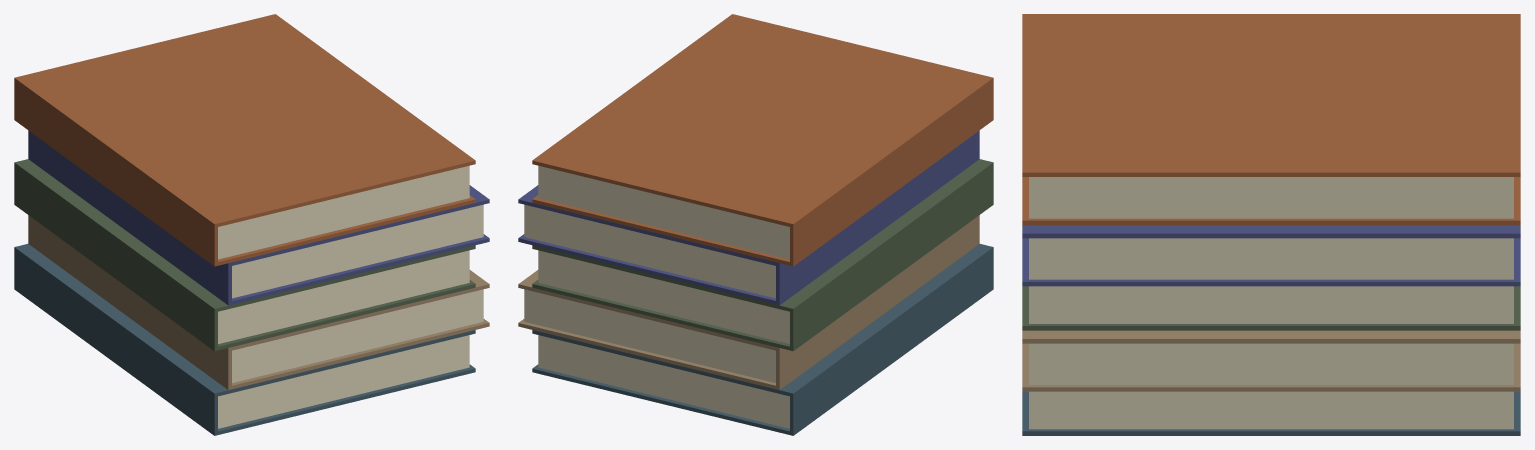
File: Konyvhalom.obj
3 views of the same model, side by side, from view 1: azimuth 30°, elevation 25°; view 2: azimuth 150°, elevation 25°; view 3: azimuth 270°, elevation 25° (orthographic). The views are drawn at different scales.
Size of the model in its own units: 0.238 by 0.175 by 0.3.
